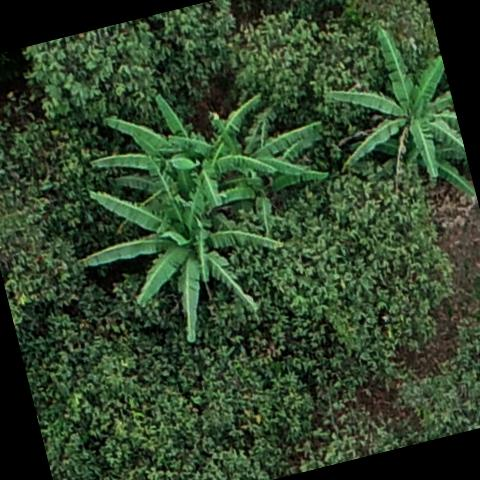Banana-plant: (59, 145, 311, 373), (306, 15, 474, 216), (76, 64, 284, 224), (180, 68, 346, 216)
